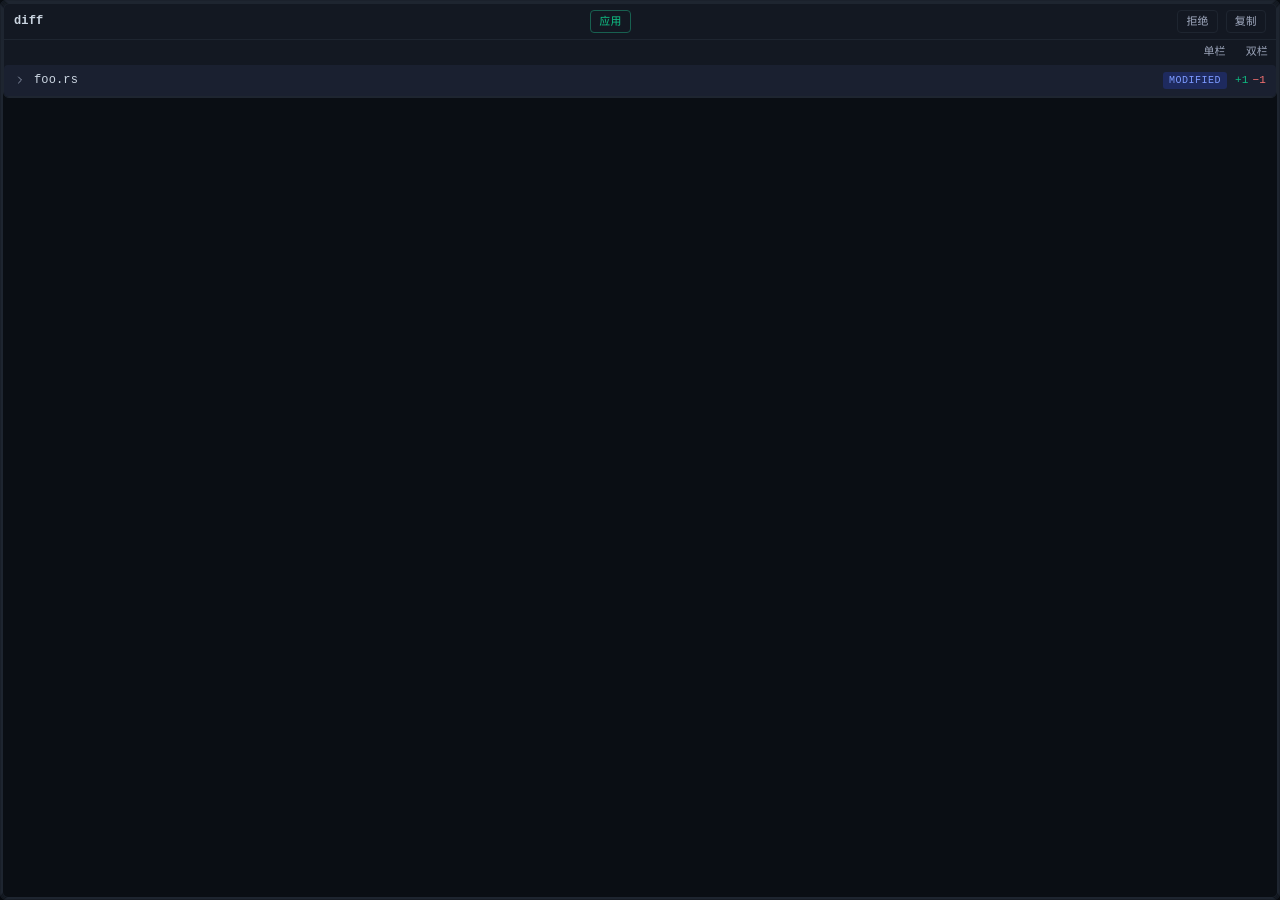
DiffPrimitive — single-file rendering › renders +/- diff lines (after expanding the collapsed modified file)
Click the button with class "diff-file__header": (56, 80) left=4, top=65, right=1276, bottom=97
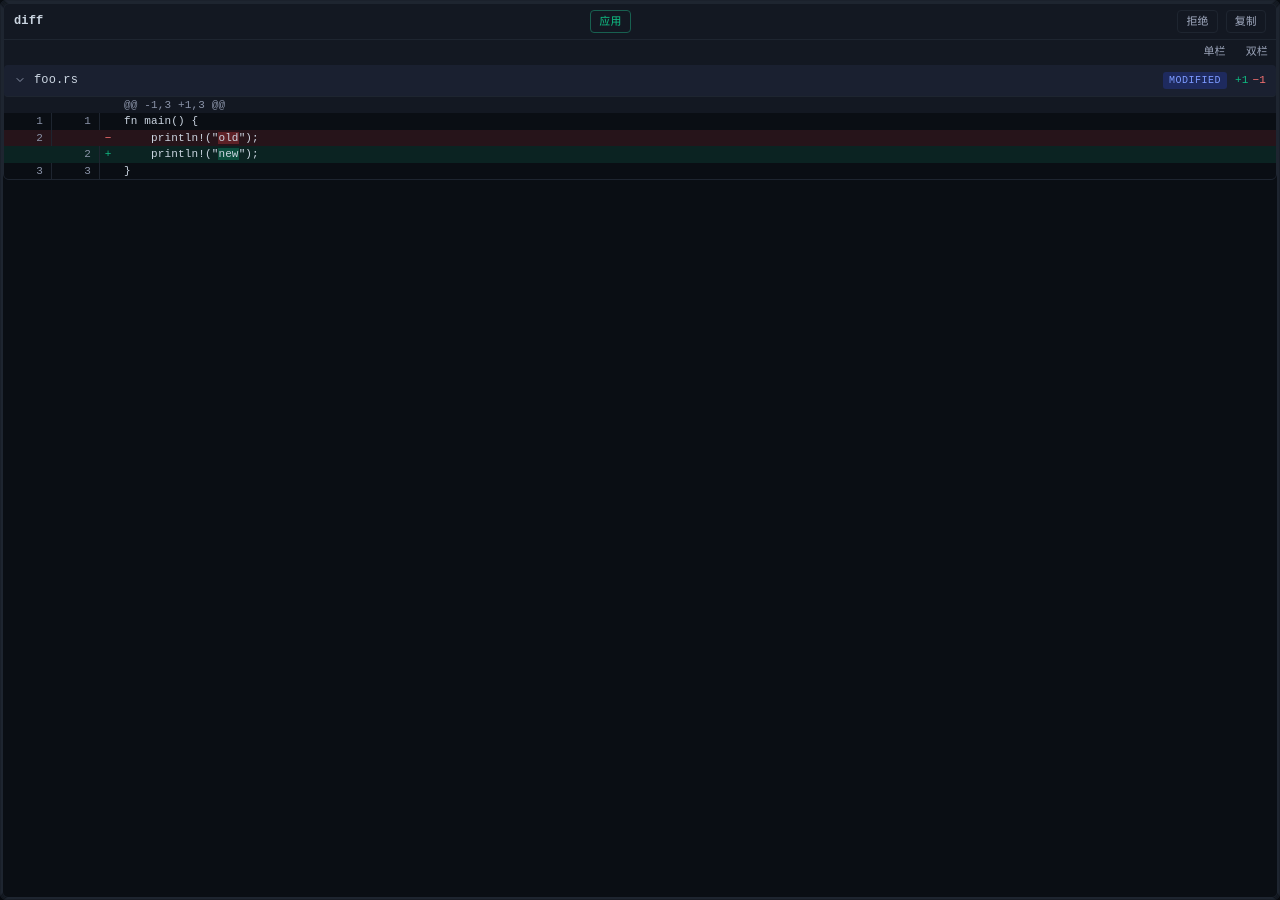
Check: the element with class "diff-line--add" is shown, box left=4, top=146, right=1276, bottom=163
Check: the element with class "diff-line--del" is shown, box left=4, top=130, right=1276, bottom=146
